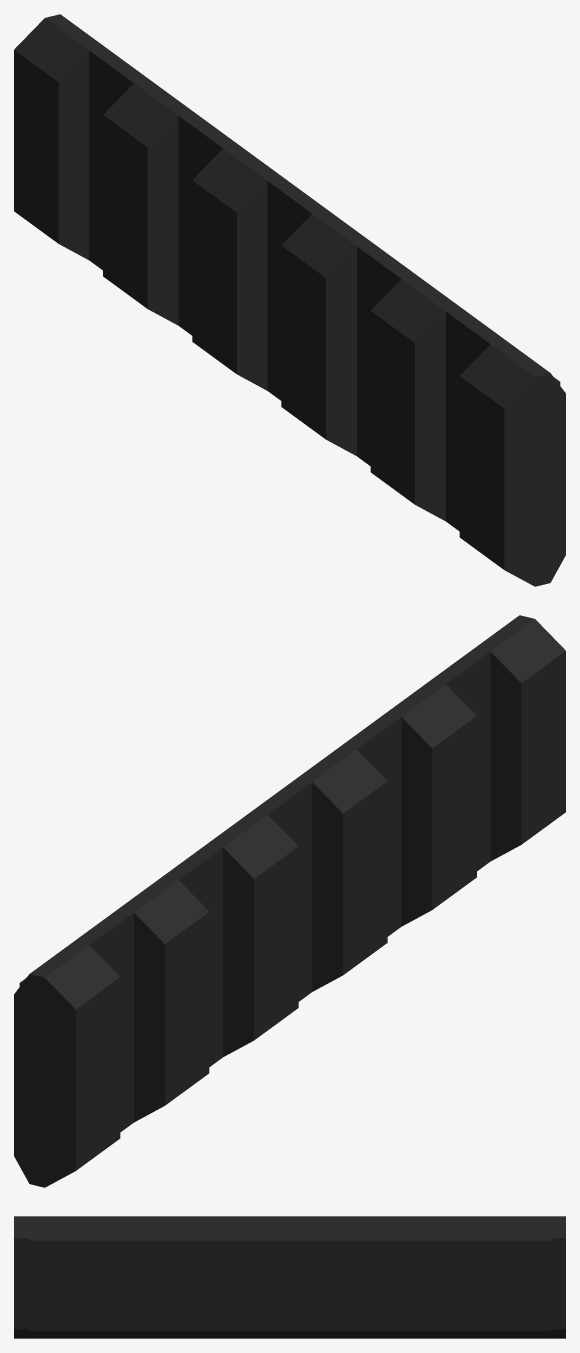
File: Rail_Right.fbx
The picture shows the model from 3 angles, top to bottom: view 1: azimuth 30°, elevation 25°; view 2: azimuth 150°, elevation 25°; view 3: azimuth 270°, elevation 25°; orthographic projection. The views are drawn at different scales.
Parts seen in each view (by area): view 1: Rail_Right; view 2: Rail_Right; view 3: Rail_Right.
Part boxes in pixels (left/top/right/bottom): Rail_Right: left=14, top=14, right=565, bottom=586; Rail_Right: left=14, top=615, right=565, bottom=1187; Rail_Right: left=14, top=1216, right=565, bottom=1338.
Size of the model in its own units: 0.0113 by 0.0325 by 0.1375.
